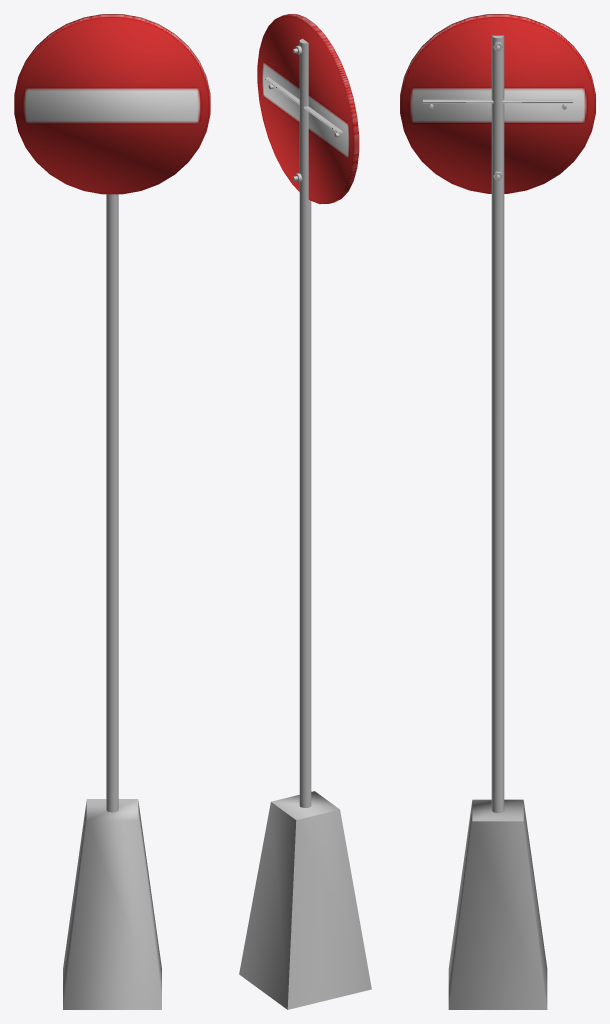
The model's file is TrafficSign1.fbx.
3 views of the same model, side by side, from view 1: azimuth 90°, elevation 25°; view 2: azimuth 210°, elevation 25°; view 3: azimuth 270°, elevation 25° (orthographic).
Visible parts, largest first — view 1: TrafficSign1; view 2: TrafficSign1; view 3: TrafficSign1.
Boxes of the visible parts, box(x1,y1,x2,y2) form: TrafficSign1: box(14, 14, 210, 1009); TrafficSign1: box(239, 14, 371, 1009); TrafficSign1: box(400, 14, 595, 1009).
Size of the model in its own units: 0.4226 by 0.839 by 4.6.
